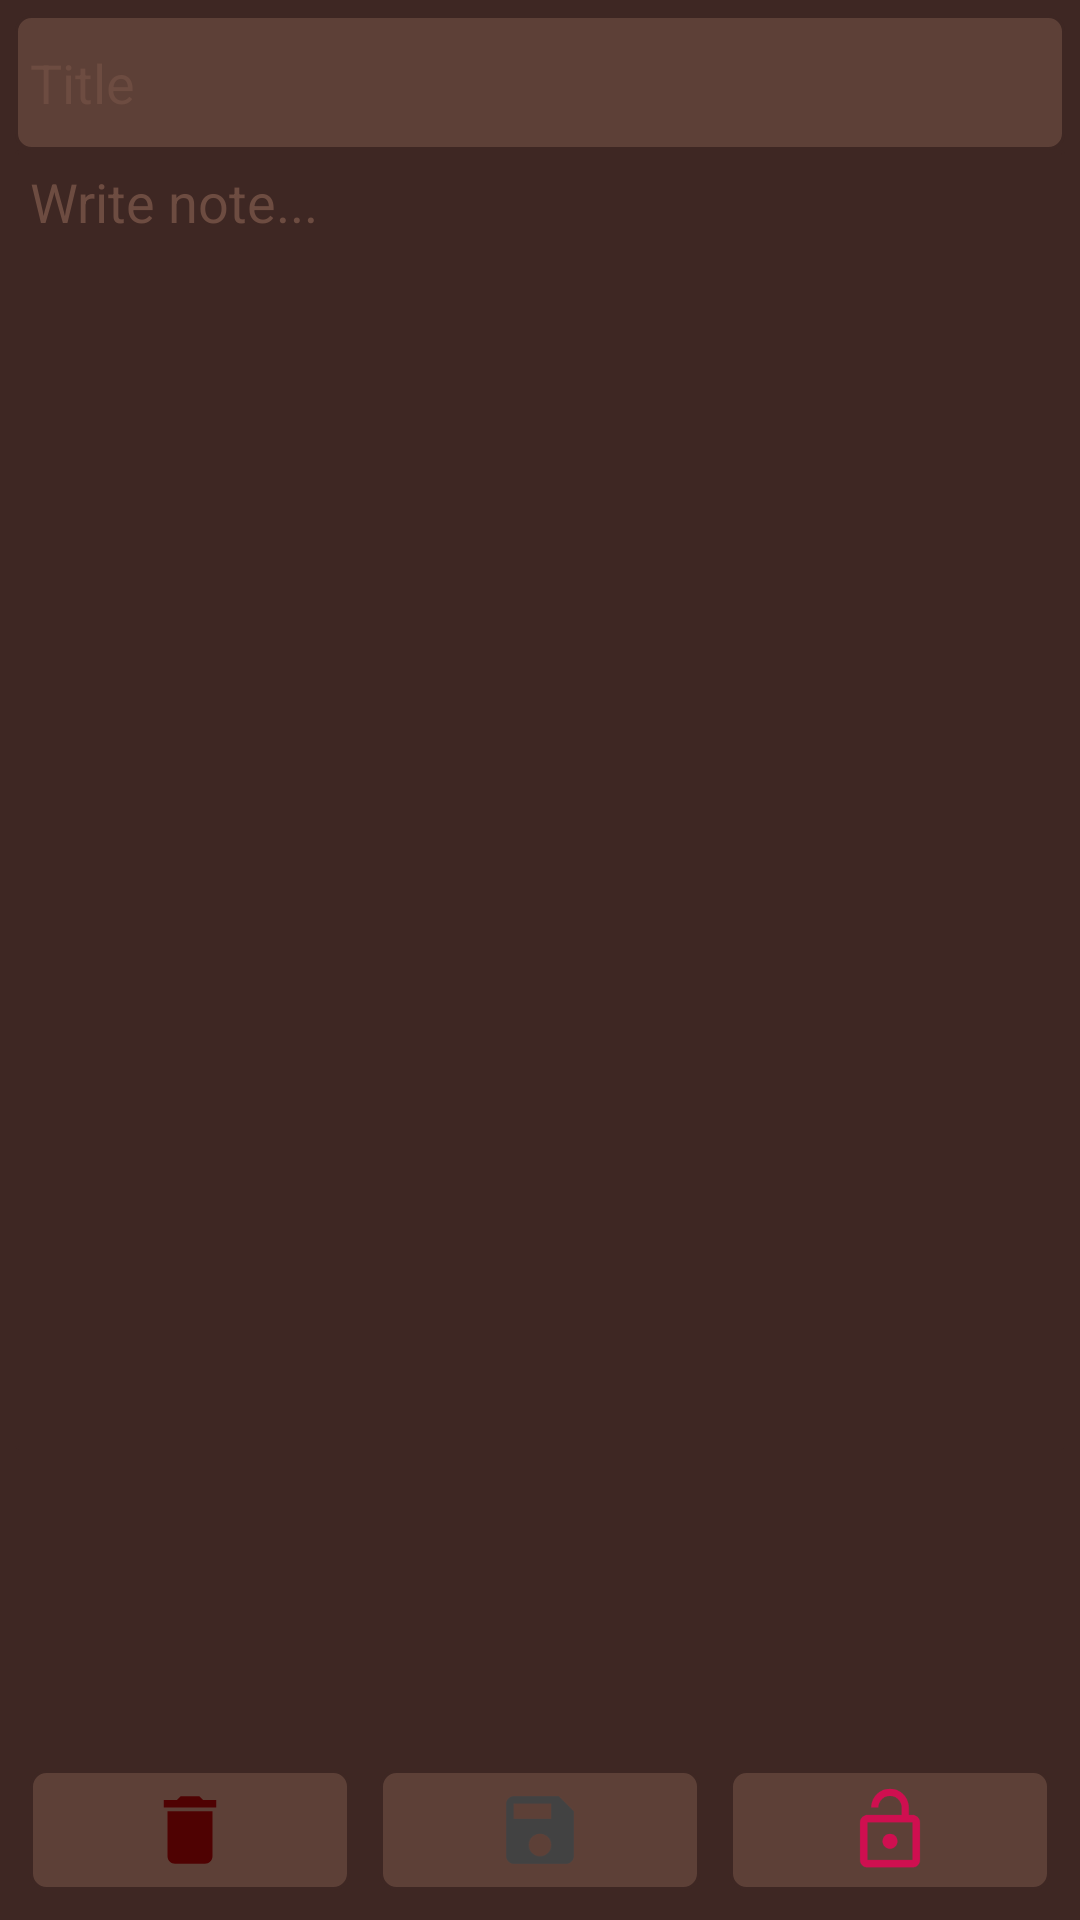

Named icons in this screenshot (1080px×1920px) and their centers, point (x, y):
delete: point (190, 1830)
lock open: point (890, 1830)
save: point (540, 1830)
